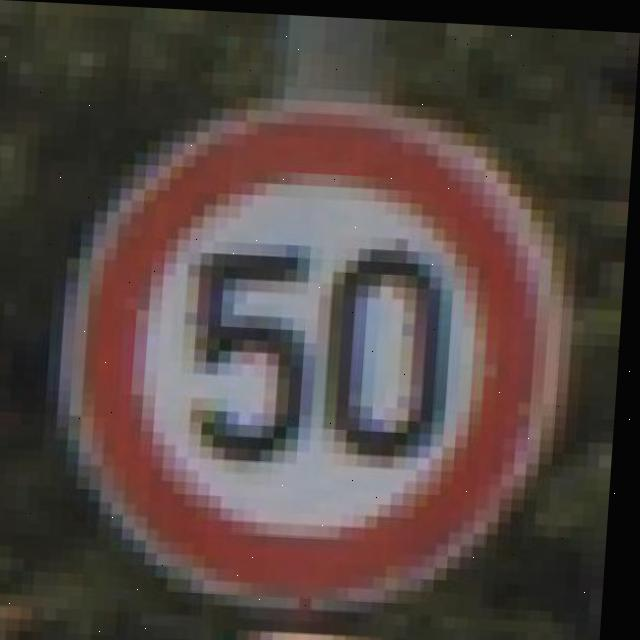Speed limit 50: (53, 86, 581, 620)
